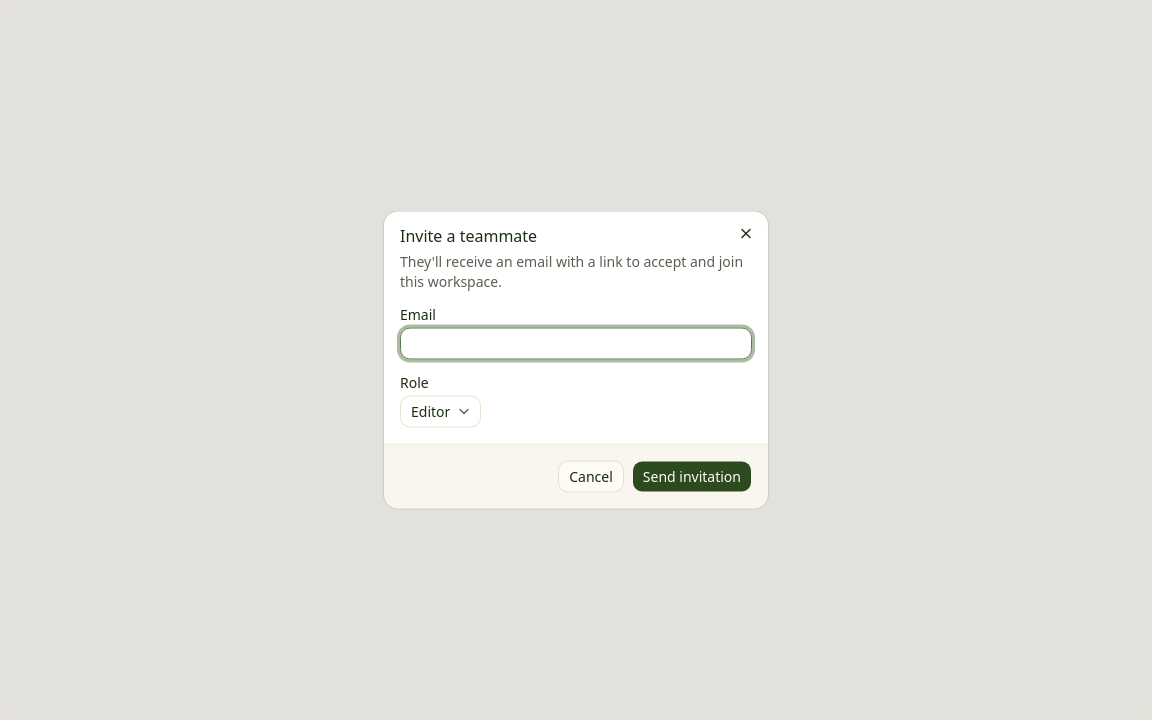
InviteMemberDialog › surfaces a 409 as an inline 'already pending' error
In the field with test id "invite-email-input": (576, 344) [400,328,752,360], type "dup@example.com"
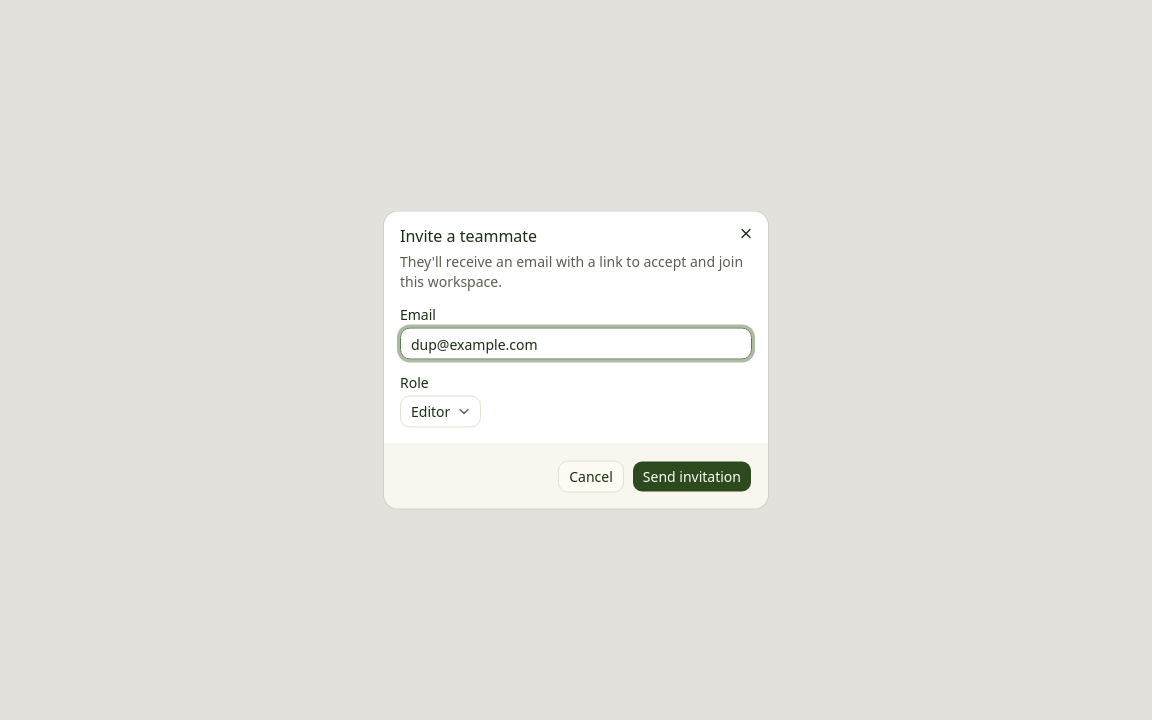
Click the button with test id "invite-submit": click(692, 476) [632,460,752,492]
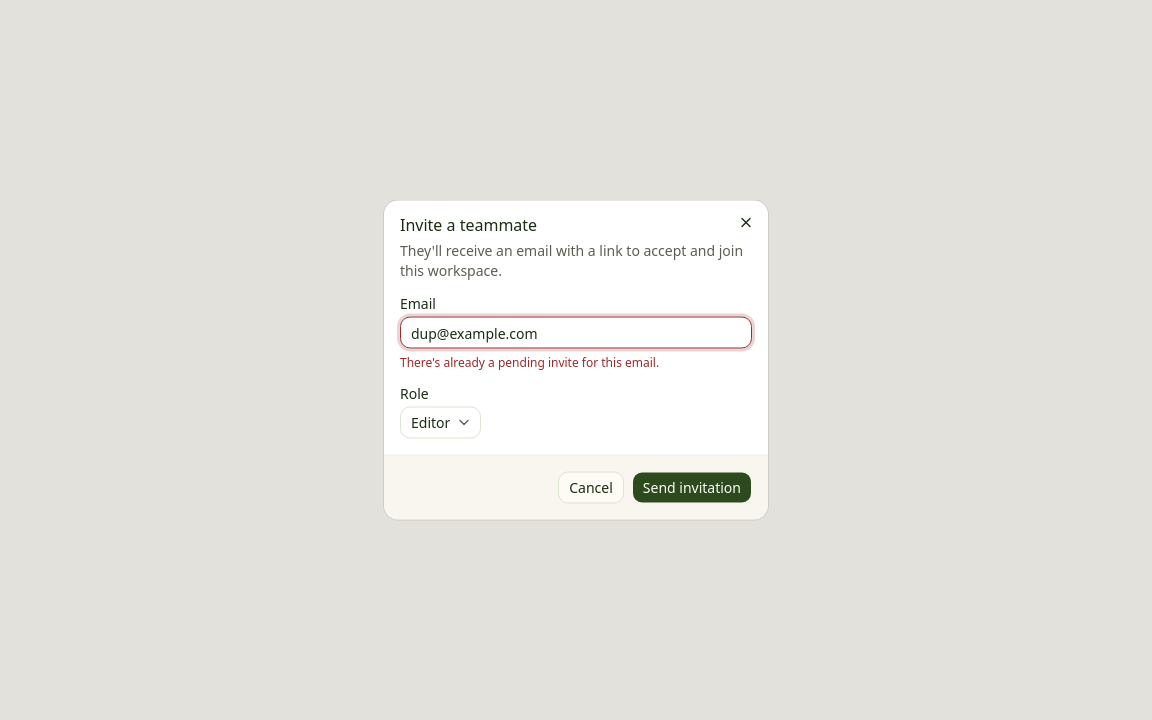
expect the text with test id "invite-email-error" shows "already a pending invite": met, box [400,354,659,370]
